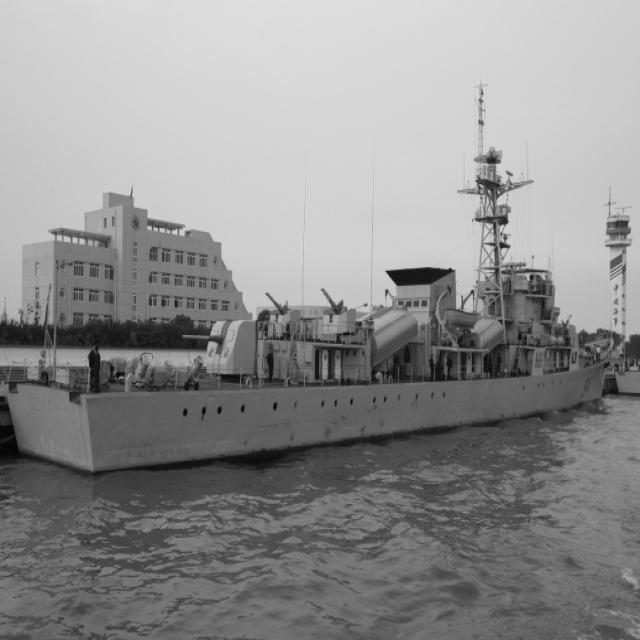Fragata: (1, 40, 623, 481)
